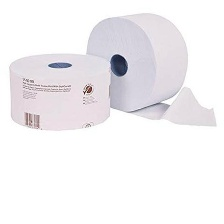tissue: (80, 6, 222, 131), (3, 46, 116, 136)
